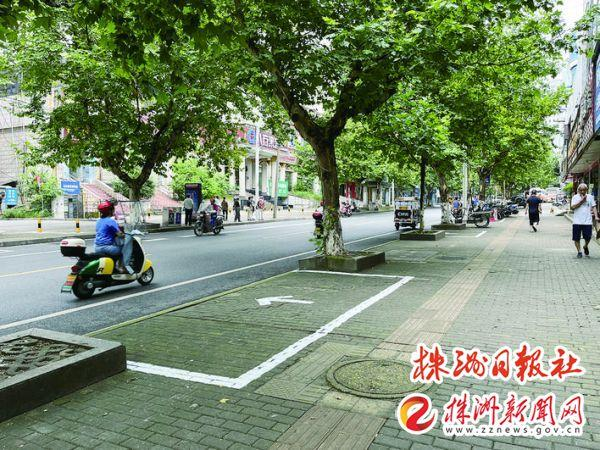slot_nocar: (87, 259, 423, 404)
